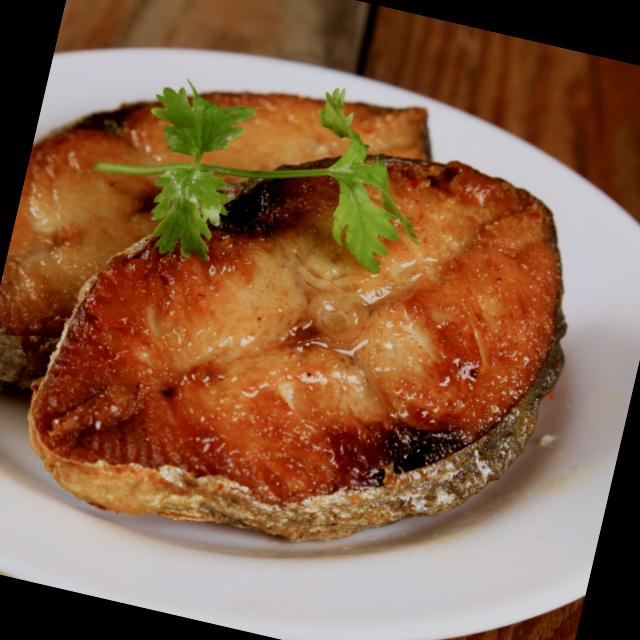ca kho: (0, 89, 565, 540)
